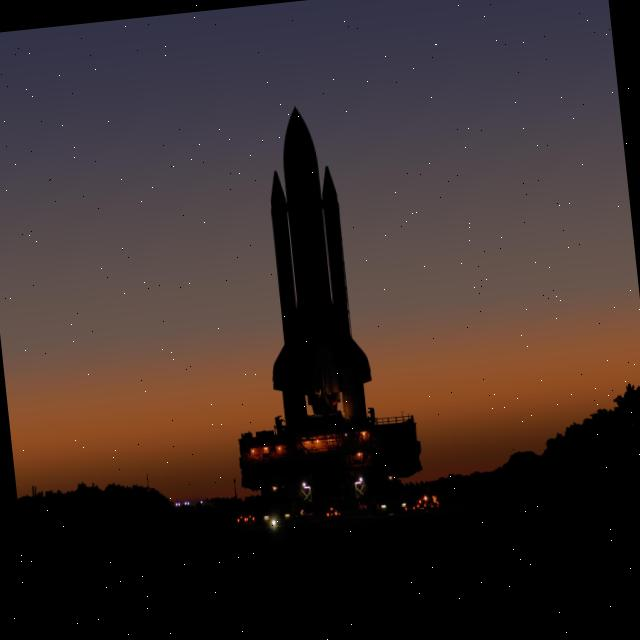rocket: (241, 102, 377, 438)
